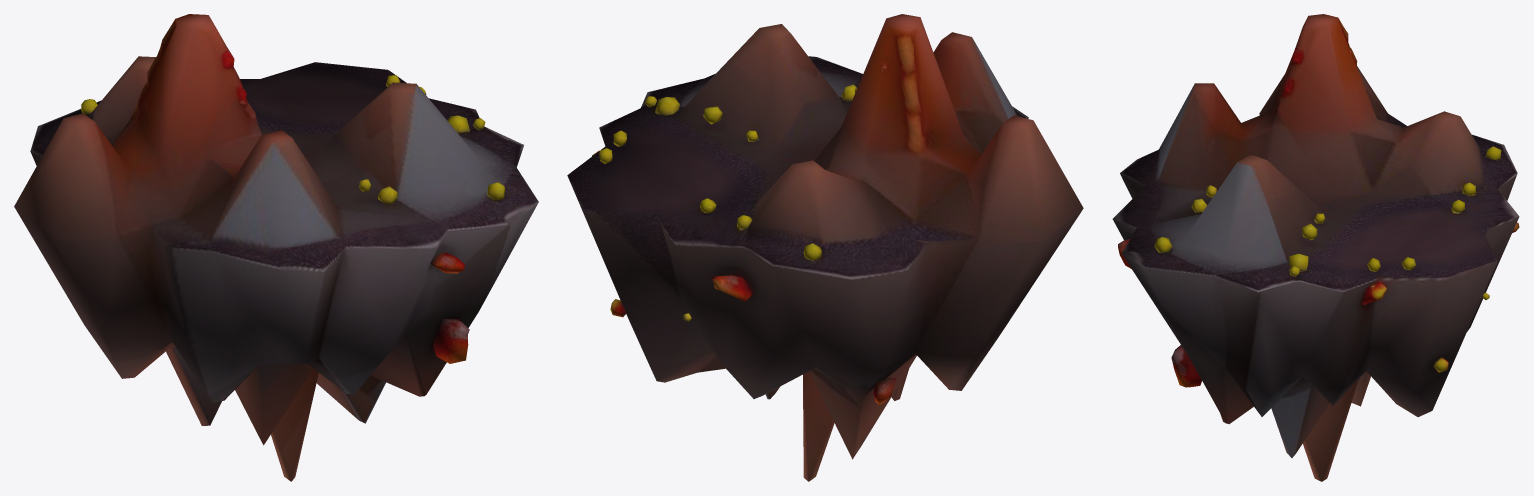
The model's file is tripo_convert_55840ead-f085-479b-a7b3-12965043fa12.fbx.
The picture shows the model from 3 angles, left to right: view 1: azimuth 30°, elevation 25°; view 2: azimuth 150°, elevation 25°; view 3: azimuth 270°, elevation 25°; orthographic projection. The views are drawn at different scales.
Parts seen in each view (by area): view 1: tripo_node_55840ead; view 2: tripo_node_55840ead; view 3: tripo_node_55840ead.
Boxes of the visible parts, bbox=[...] form: tripo_node_55840ead: bbox=[14, 14, 538, 481]; tripo_node_55840ead: bbox=[567, 14, 1083, 481]; tripo_node_55840ead: bbox=[1112, 14, 1519, 481].
Bounding box in the file's own units: 0.9824 × 0.998 × 0.877.
1 material, 1 textured.
